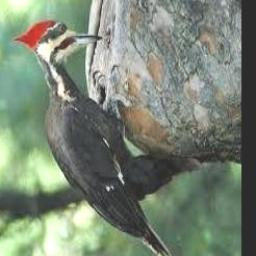Woodpecker: (14, 20, 173, 256)
